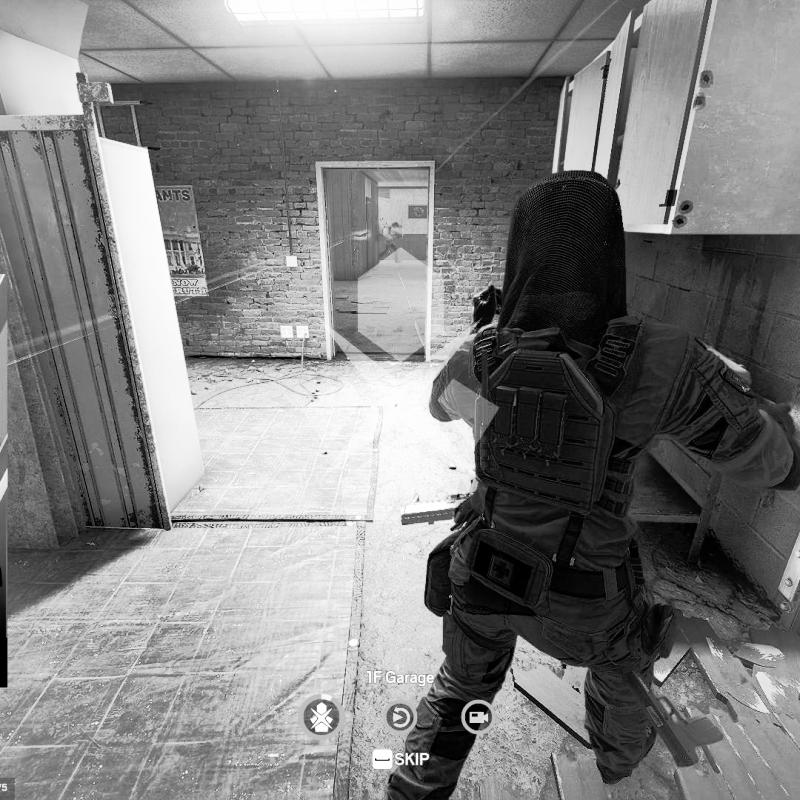Character: (383, 166, 800, 798), (377, 221, 403, 264)
Head: (497, 168, 631, 335), (392, 221, 400, 230)
